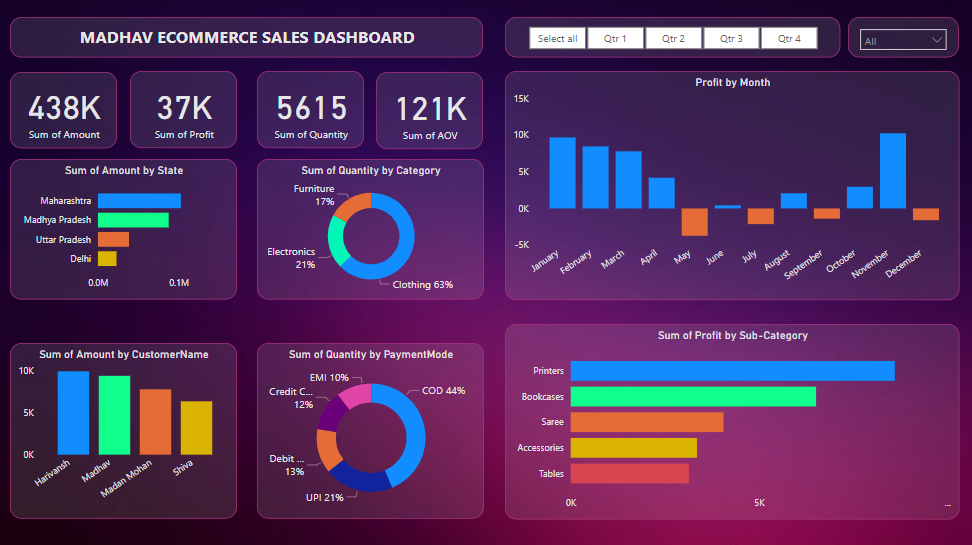

This screenshot's page, from the dashboard's own definition file:
{"tool":"powerbi","page":{"name":"Page 1","canvas":[1280,720],"ordinal":0},"visuals":[{"type":"textbox","box":[15.8,24.5,619.2,53.3],"z":0},{"type":"columnChart","title":"Profit by Month","fields":{"Category":["Orders.Order Date.Variation.Date Hierarchy.Month"],"Y":["Details.Profit"]},"box":[663.8,95,594.7,299.5],"z":1000},{"type":"barChart","fields":{"Category":["Details.Sub-Category"],"Y":["Details.Profit"]},"box":[663.8,426.2,594.7,256.3],"z":2000},{"type":"donutChart","fields":{"Y":["Details.Quantity"],"Category":["Details.PaymentMode"]},"box":[338.4,452.2,296.6,230.4],"z":3000},{"type":"donutChart","fields":{"Category":["Details.Category"],"Y":["Details.Quantity"]},"box":[338.4,210.2,296.6,184.3],"z":4000},{"type":"card","fields":{"Values":["Details.Amount"]},"box":[15.8,96.5,139.7,100],"z":5000},{"type":"card","fields":{"Values":["Details.Profit"]},"box":[172.8,95,139.7,100.8],"z":6000},{"type":"card","fields":{"Values":["Details.Quantity"]},"box":[338.4,95,139.7,100.8],"z":7000},{"type":"card","fields":{"Values":["Details.AOV"]},"box":[495.4,96.5,139.7,100.8],"z":8000},{"type":"barChart","fields":{"Y":["Details.Amount"],"Category":["Orders.State"]},"box":[15.8,210.2,296.6,184.3],"z":9000},{"type":"columnChart","fields":{"Category":["Orders.CustomerName"],"Y":["Details.Amount"]},"box":[15.8,452.2,296.6,230.4],"z":10000},{"type":"slicer","fields":{"Values":["Orders.Order Date.Variation.Date Hierarchy.Quarter"]},"box":[663.8,24.5,439.2,53.3],"z":10001},{"type":"slicer","fields":{"Values":["Orders.State"]},"box":[1113.1,24.5,145.4,53.3],"z":10002}]}

Visuals, with their boxes in screenshot pixels (x1, y1, x2, y2), scaled from the page's 1280x720 canvas onto the 972x545 screenshot:
textbox: <region>12, 19, 482, 59</region>
"Profit by Month" columnChart: <region>504, 72, 956, 299</region>
barChart - Details.Sub-Category x Details.Profit: <region>504, 323, 956, 517</region>
donutChart - Details.Quantity x Details.PaymentMode: <region>257, 342, 482, 517</region>
donutChart - Details.Category x Details.Quantity: <region>257, 159, 482, 299</region>
card - Details.Amount: <region>12, 73, 118, 149</region>
card - Details.Profit: <region>131, 72, 237, 148</region>
card - Details.Quantity: <region>257, 72, 363, 148</region>
card - Details.AOV: <region>376, 73, 482, 149</region>
barChart - Details.Amount x Orders.State: <region>12, 159, 237, 299</region>
columnChart - Orders.CustomerName x Details.Amount: <region>12, 342, 237, 517</region>
slicer - Orders.Order Date.Variation.Date Hierarchy.Quarter: <region>504, 19, 838, 59</region>
slicer - Orders.State: <region>845, 19, 956, 59</region>
